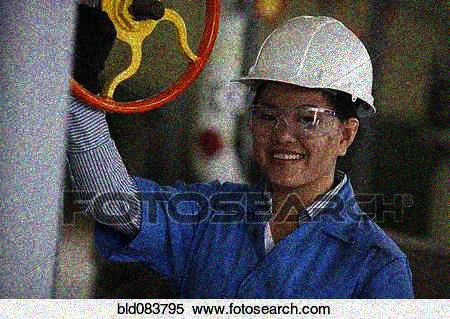helmet: (229, 11, 381, 182)
